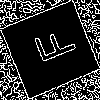F: (25, 24, 77, 69)
